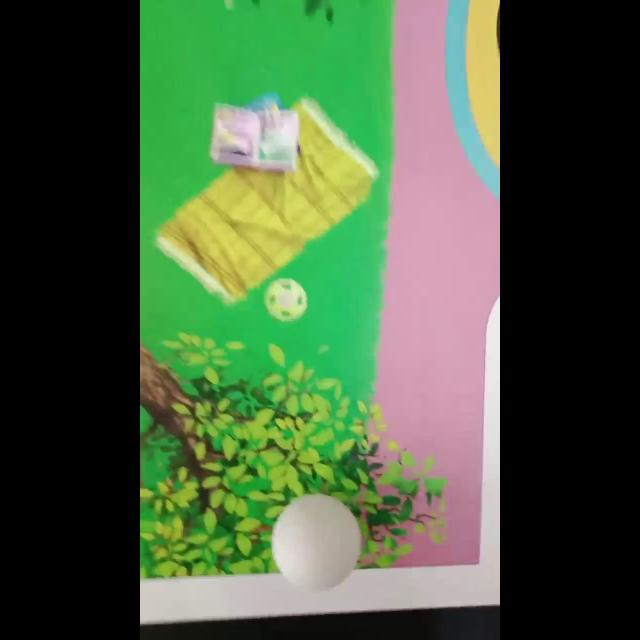white ball: (270, 493, 362, 591)
